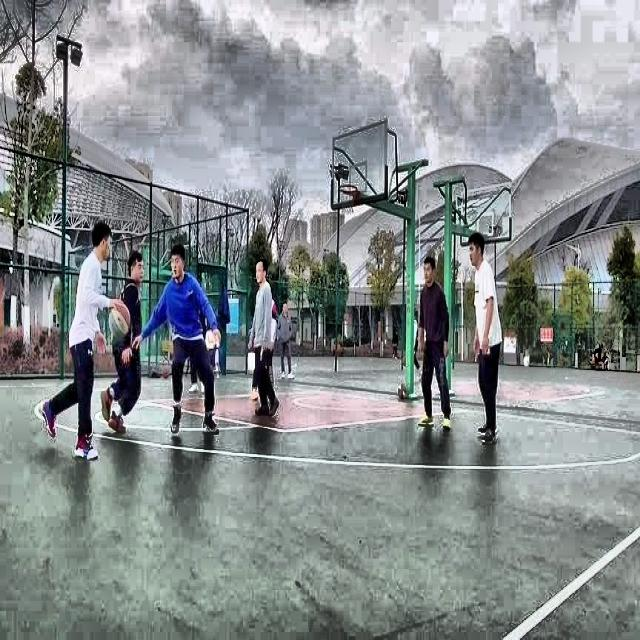board: (108, 300, 130, 337)
